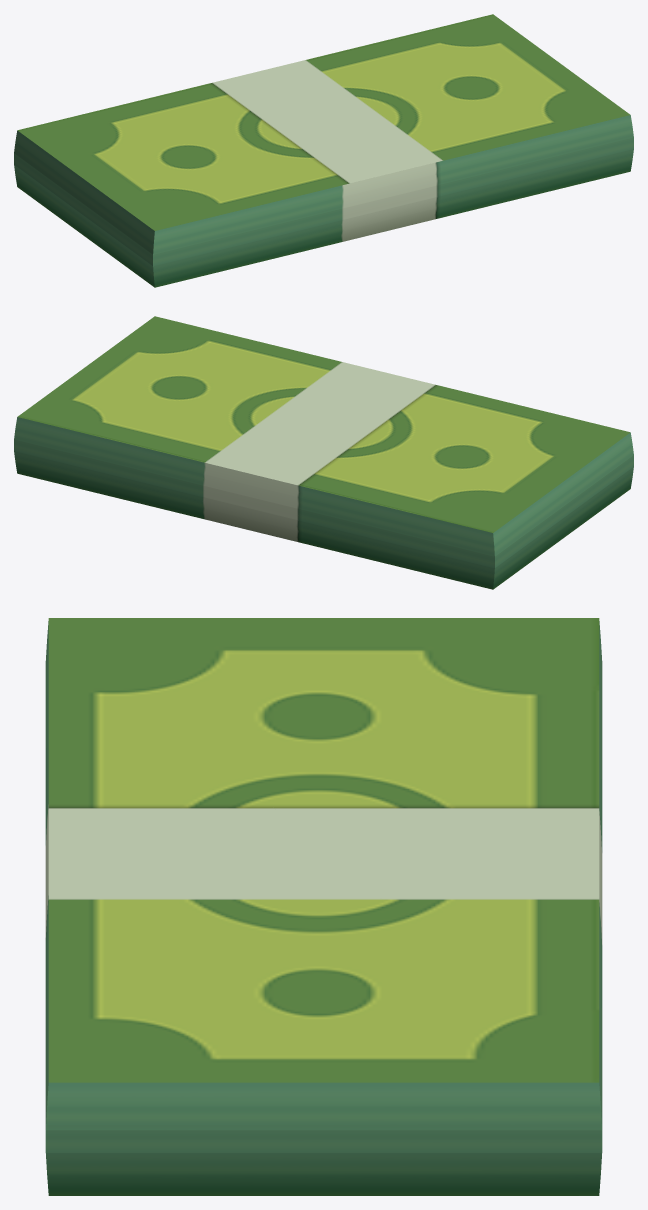
The model's file is moneybill3.fbx.
3 renders of one model, top to bottom at view 1: azimuth 30°, elevation 25°; view 2: azimuth 150°, elevation 25°; view 3: azimuth 270°, elevation 25°, orthographic. The views are drawn at different scales.
Visible parts, largest first — view 1: Cube; view 2: Cube; view 3: Cube.
Boxes of the visible parts, bbox=[...] form: Cube: bbox=[14, 14, 633, 287]; Cube: bbox=[14, 316, 633, 589]; Cube: bbox=[45, 618, 602, 1195].
Bounding box in the file's own units: 404 × 45.46 × 202.
